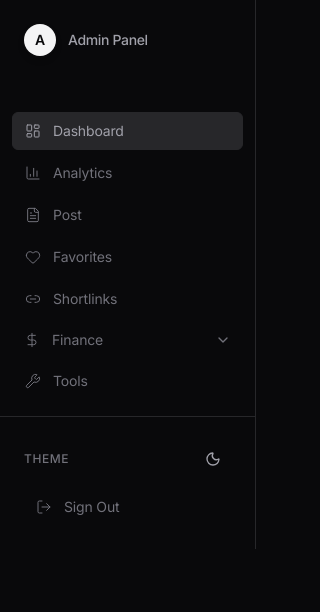
Sidebar › Sign Out Functionality › displays error message when logout fails
Click the button "Sign Out".
click(128, 507)  # box [24,489,231,525]
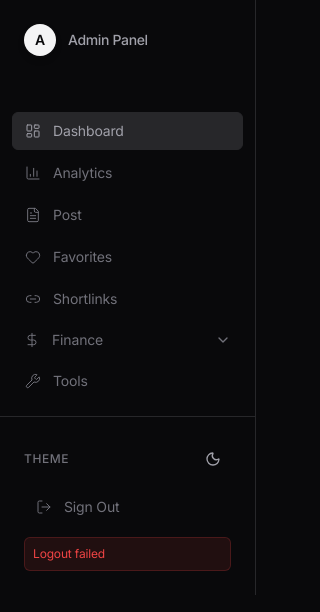
Check: the text "Logout failed" is shown, box [24,537,231,571]
